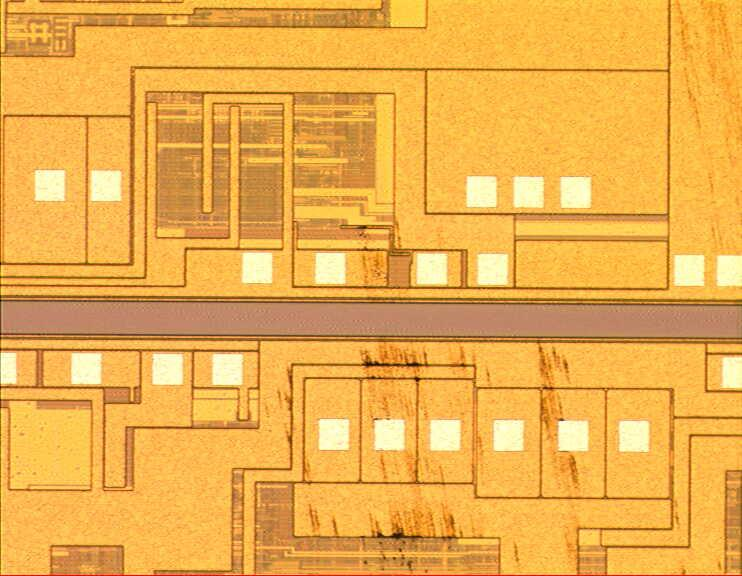PO CONTAMINATION: (261, 1, 742, 576)
